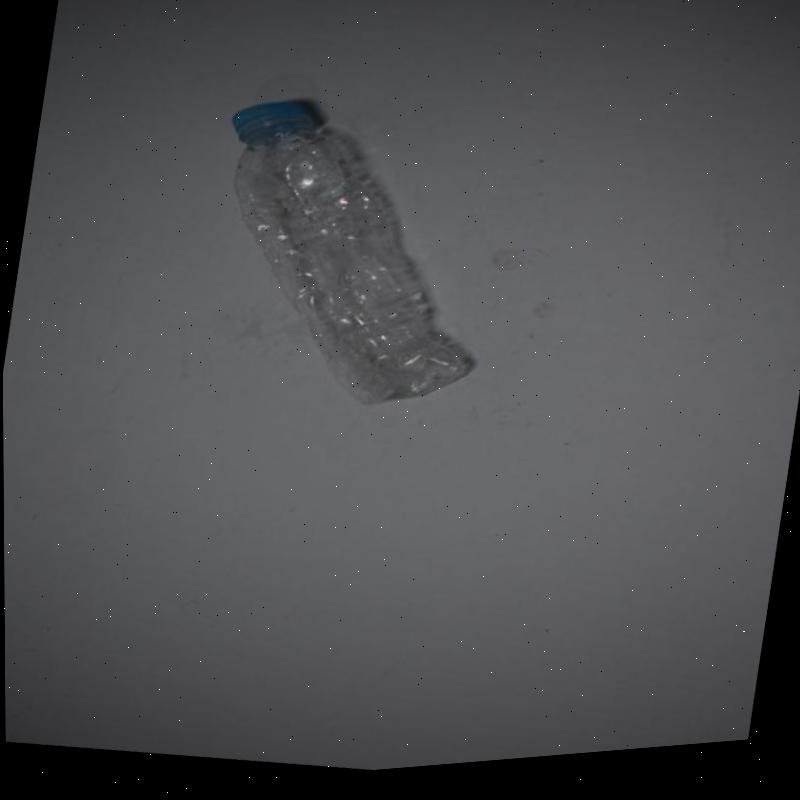botella: (194, 81, 508, 435)
